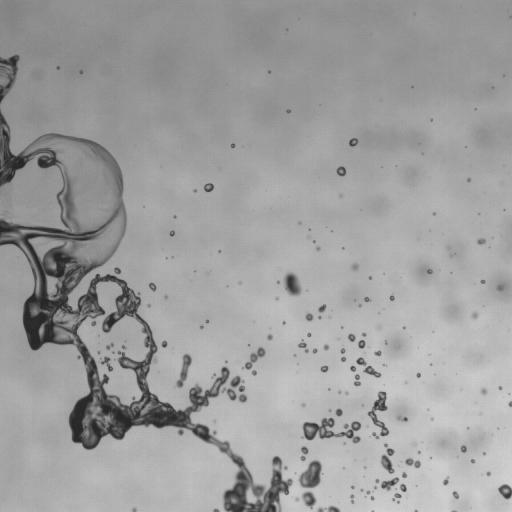droplet: (283, 272, 301, 296), (498, 484, 511, 499), (405, 458, 420, 468), (298, 340, 308, 352), (336, 166, 345, 176), (349, 138, 358, 146), (204, 183, 213, 191), (354, 374, 360, 385), (318, 304, 326, 312), (305, 313, 313, 321), (358, 340, 365, 348), (320, 365, 328, 372), (335, 408, 342, 416), (393, 493, 401, 500), (443, 476, 449, 485), (397, 416, 407, 421), (149, 283, 156, 290), (471, 312, 478, 319), (348, 334, 355, 341), (399, 484, 406, 491), (477, 238, 485, 244), (452, 491, 458, 499), (352, 263, 358, 270), (106, 343, 113, 349), (460, 445, 466, 452), (161, 341, 167, 347), (323, 344, 329, 350), (375, 350, 381, 356), (481, 388, 487, 394), (364, 297, 370, 302), (267, 334, 272, 340), (497, 285, 502, 290), (340, 348, 345, 353), (350, 366, 355, 371), (251, 370, 256, 375), (212, 508, 219, 511), (170, 230, 174, 235), (427, 269, 432, 273), (390, 295, 394, 300), (313, 348, 317, 353), (341, 356, 345, 361), (402, 472, 406, 477), (366, 490, 371, 494), (286, 109, 290, 113), (316, 246, 320, 250), (416, 373, 420, 377), (471, 459, 475, 463), (486, 472, 490, 476), (132, 507, 136, 511), (508, 401, 511, 406), (362, 332, 365, 336), (122, 345, 125, 349), (302, 403, 305, 407), (231, 144, 234, 147), (467, 178, 470, 181), (481, 280, 484, 283), (164, 295, 167, 298), (282, 321, 285, 324), (200, 325, 203, 328), (307, 333, 310, 336), (499, 386, 502, 389), (413, 442, 416, 445), (351, 485, 354, 488), (194, 189, 196, 192), (433, 212, 435, 215), (318, 316, 321, 318), (97, 351, 100, 353), (374, 486, 376, 489), (174, 215, 176, 217), (275, 297, 277, 299), (383, 364, 385, 366), (346, 392, 348, 394), (329, 409, 331, 411), (371, 497, 373, 499)
ligament: (0, 110, 292, 511), (302, 418, 361, 443), (295, 460, 322, 508), (368, 391, 389, 439), (0, 54, 19, 103), (175, 353, 191, 387), (242, 347, 265, 369), (356, 357, 380, 377), (380, 444, 394, 473), (375, 477, 398, 490), (99, 356, 112, 371), (317, 505, 340, 511), (300, 446, 308, 460), (350, 494, 354, 503), (452, 510, 456, 511), (414, 510, 417, 511)
